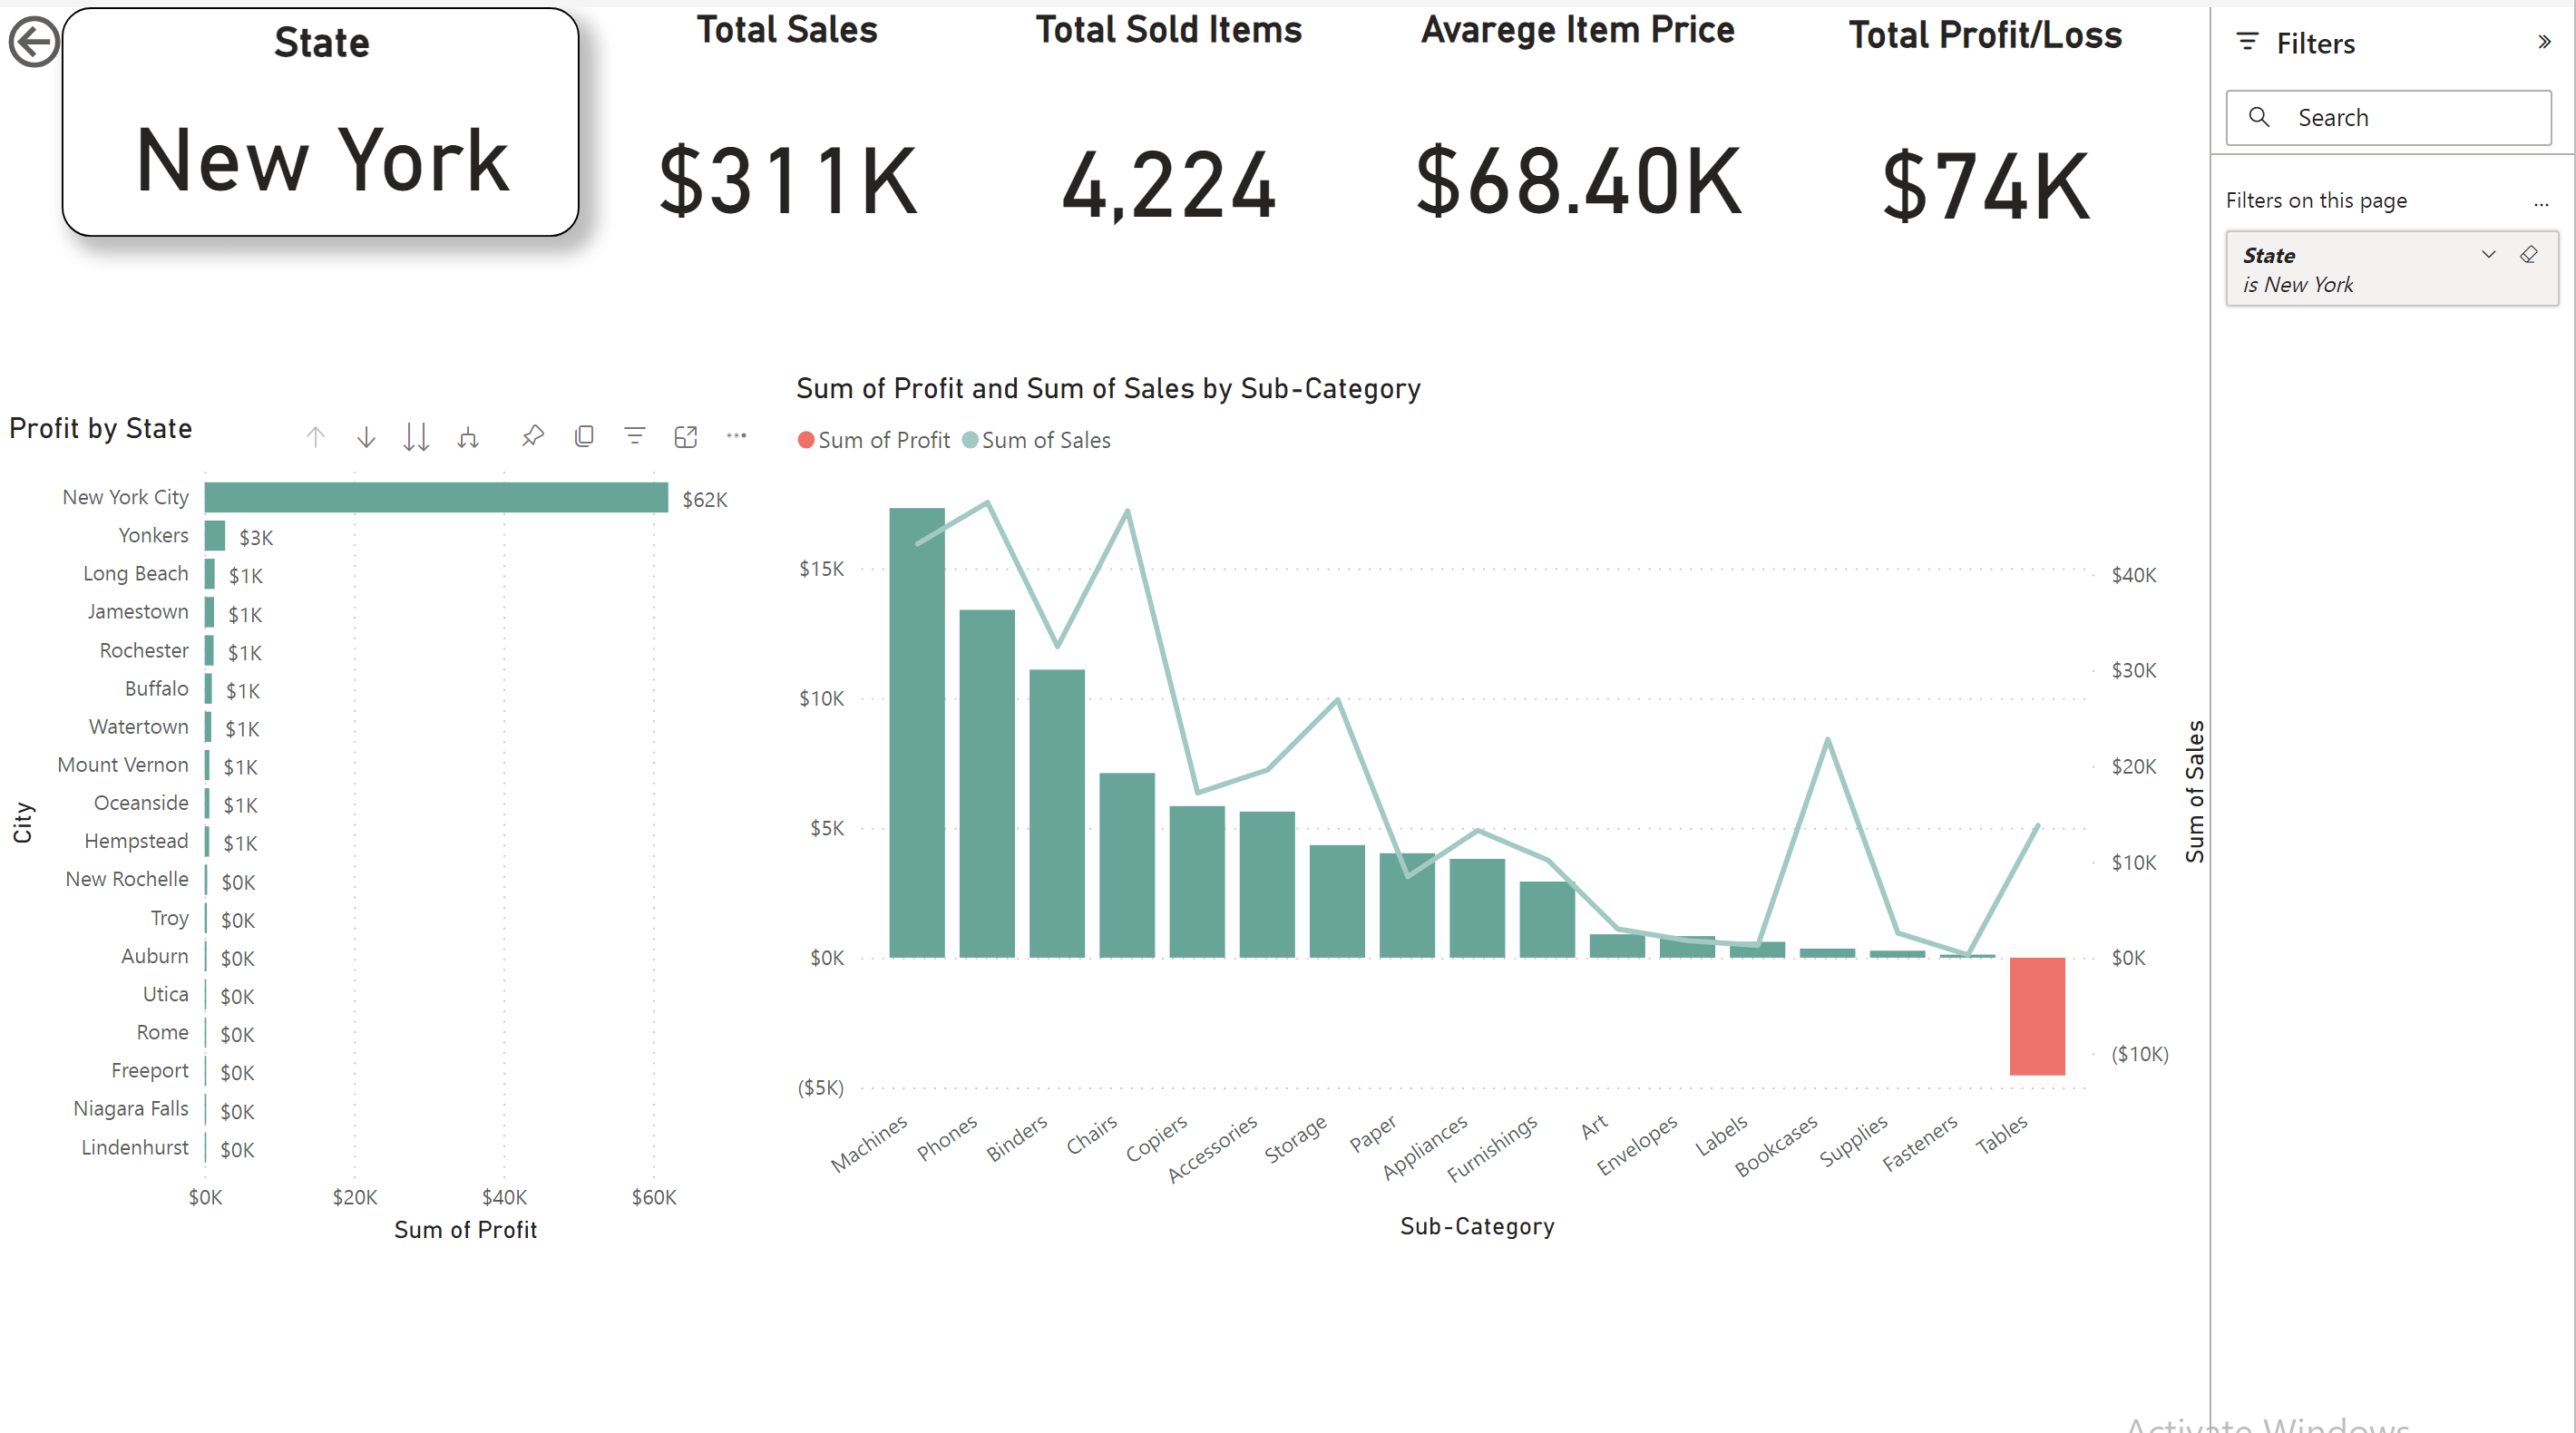

This screenshot's page, from the dashboard's own definition file:
{"tool":"powerbi","page":{"name":"Geographical Insights","canvas":[1280,720],"ordinal":4},"visuals":[{"type":"group","id":"g1","title":"Group 1","box":[0,0,1284.3,720.5],"z":0},{"type":"clusteredBarChart","title":"Profit by State","fields":{"Y":["Sum(SalesFact.Profit)"],"Category":["LocationDim.Country Hierarchy.City","LocationDim.Country Hierarchy.Postal Code"]},"box":[0,234.2,440.7,486.3],"z":0,"group":"g1"},{"type":"actionButton","box":[0,0,100,40],"z":1000},{"type":"card","title":"Total Profit/Loss","fields":{"Values":["Sum(SalesFact.Profit)"]},"box":[1020,3.4,260,162.7],"z":1000,"group":"g1"},{"type":"card","title":"Avarege Item Price","fields":{"Values":["Sum(SalesFact.Avg Item Price (after discount))"]},"box":[791.9,0,244.1,162],"z":2000},{"type":"lineClusteredColumnComboChart","fields":{"Category":["CategoryDim.Category Hierarchy.Category","CategoryDim.Category Hierarchy.Sub-Category"],"Y2":["Sum(SalesFact.Sales)"],"Y":["Sum(SalesFact.Profit)"]},"box":[456.4,211.1,827.5,507.5],"z":2000,"group":"g1"},{"type":"card","title":"State","fields":{"Values":["Min(LocationDim.State)"]},"box":[35.7,0,300.2,132.8],"z":3000},{"type":"card","title":"Total Sales","fields":{"Values":["Sum(SalesFact.Sales)"]},"box":[336.8,0,239.8,162],"z":3000,"group":"g1"},{"type":"card","title":"Total Sold Items","fields":{"Values":["Sum(SalesFact.Quantity)"]},"box":[563.8,0,228.1,166.3],"z":4000,"group":"g1"}]}

Visuals, with their boxes on the page's 1280x720 design canvas (x1, y1, x2, y2). These are canvas units, not pixel positions in the 2576x1433 screenshot, which may show the page scaled, cropped or inside an application window:
"Group 1" group: <bbox>0, 0, 1284, 720</bbox>
"Profit by State" clusteredBarChart: <bbox>0, 234, 441, 720</bbox>
actionButton: <bbox>0, 0, 100, 40</bbox>
"Total Profit/Loss" card: <bbox>1020, 3, 1280, 166</bbox>
"Avarege Item Price" card: <bbox>792, 0, 1036, 162</bbox>
lineClusteredColumnComboChart - CategoryDim.Category Hierarchy.Category x CategoryDim.Category Hierarchy.Sub-Category: <bbox>456, 211, 1284, 719</bbox>
"State" card: <bbox>36, 0, 336, 133</bbox>
"Total Sales" card: <bbox>337, 0, 577, 162</bbox>
"Total Sold Items" card: <bbox>564, 0, 792, 166</bbox>
